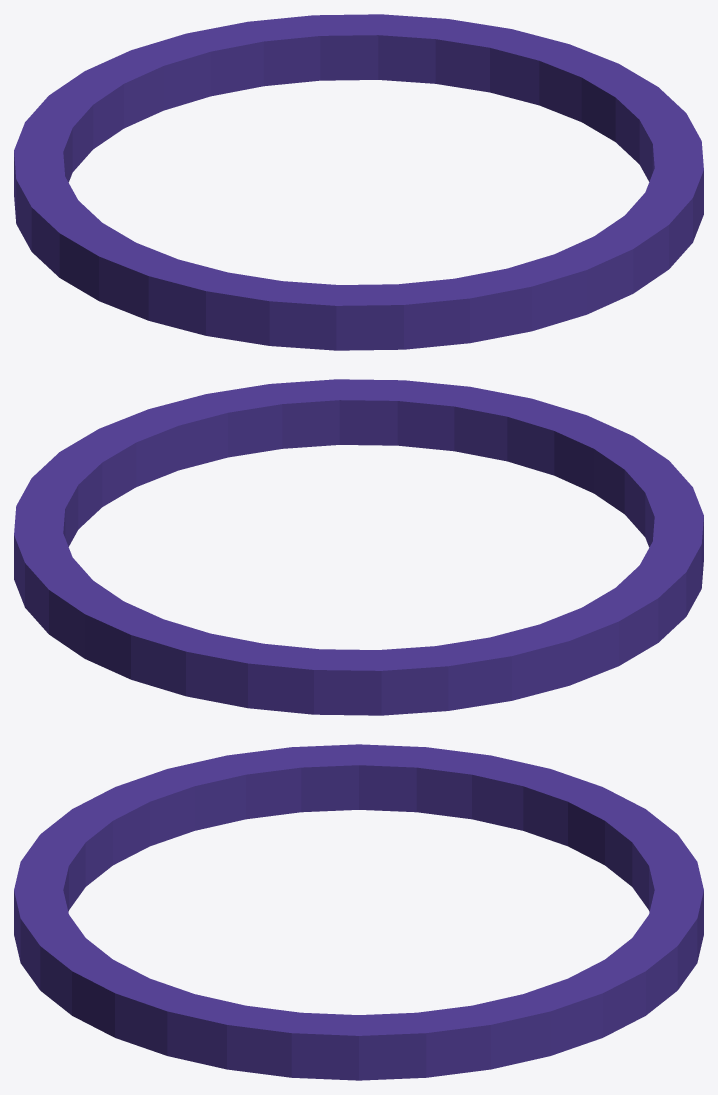
Rendered from Arc06.glb.
3 views of the same model, one above another, from view 1: azimuth 30°, elevation 25°; view 2: azimuth 150°, elevation 25°; view 3: azimuth 270°, elevation 25° (orthographic).
Parts seen in each view (by area): view 1: Arc.06; view 2: Arc.06; view 3: Arc.06.
Part boxes in pixels (x1,y1,x2,y2): Arc.06: (14, 14, 703, 350); Arc.06: (14, 379, 703, 715); Arc.06: (14, 744, 703, 1080).
Size of the model in its own units: 14 by 1 by 14.
